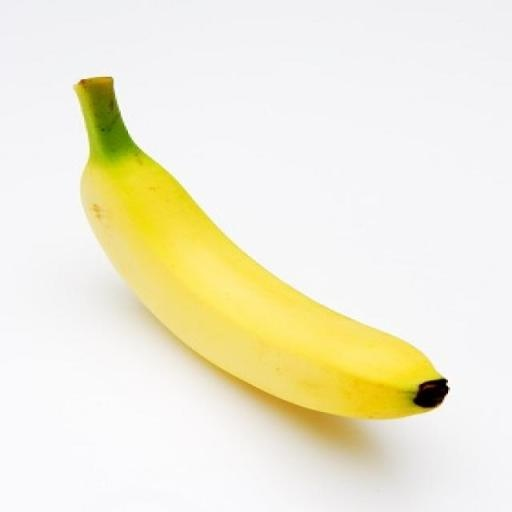fruit: (75, 78, 447, 418)
